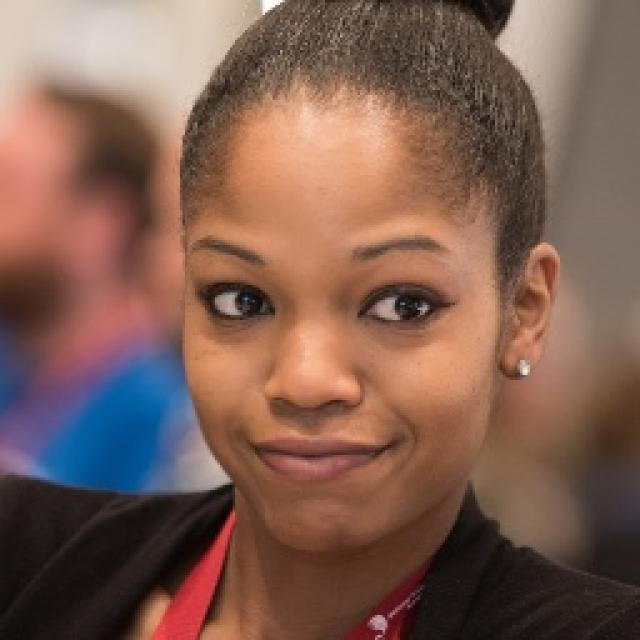earlobe: (500, 242, 563, 378)
